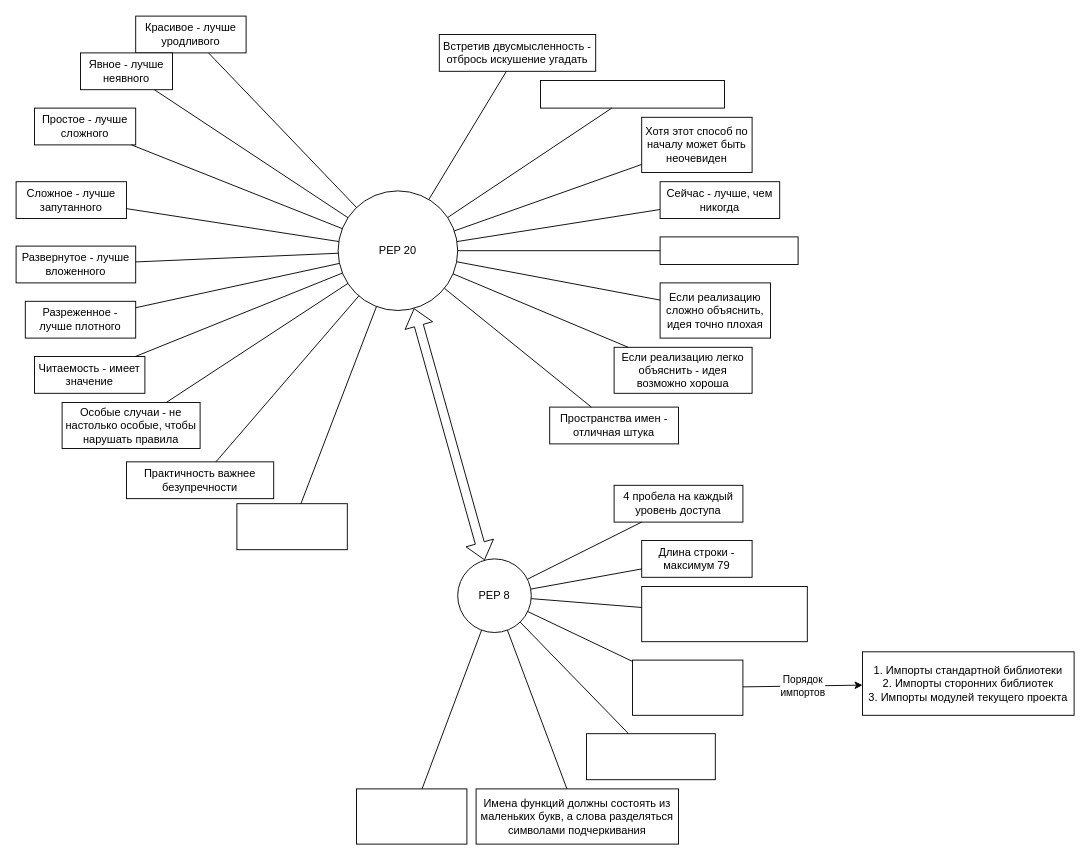
Image size: 1090x860. Some labels were removed from this diagram. The centre of each missing label's shape, as x and y in pixels:
"Блок комментариев объясняет код после блока" belongs at (x=650, y=756).
"Должен существовать один очевидный способ сделать что то" belongs at (x=632, y=94).
"Имена классов должны следовать соглашению CapWords" belongs at (x=411, y=816).
"Каждый импорт на отдельной строке" belongs at (x=687, y=687).
"Ошибки не должны замалчиваться" belongs at (x=291, y=526).
"Функции верхнего уровня и определения классов отделяются двумя пустыми строками" belongs at (x=724, y=614).
"Хотя никогда - часто лучше, чем прям щас" belongs at (x=728, y=250).
